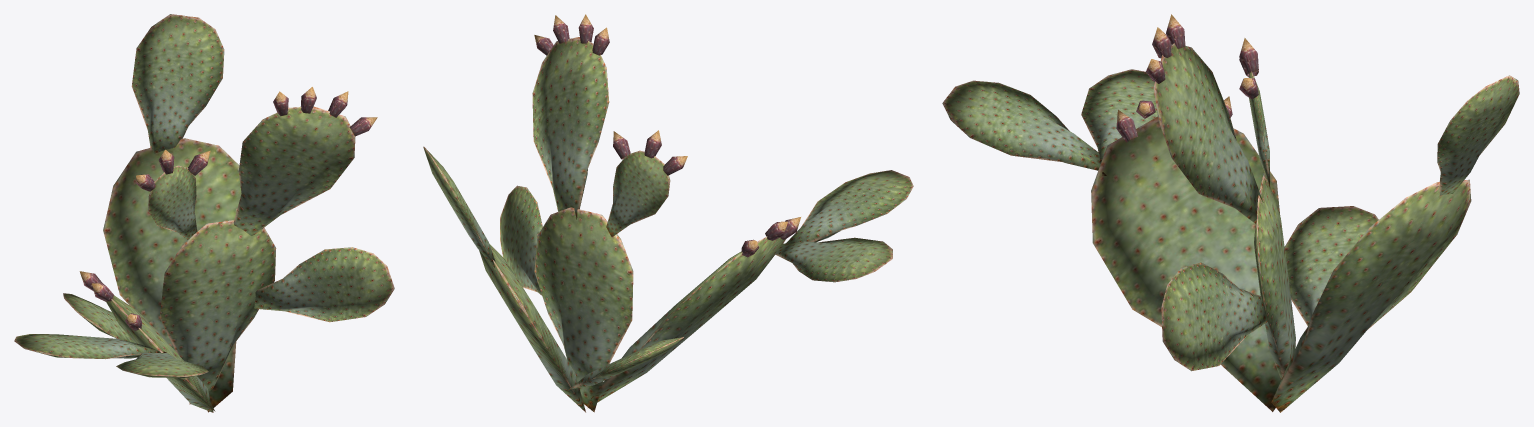
File: Nopal.obj
3 renders of one model, left to right at view 1: azimuth 30°, elevation 25°; view 2: azimuth 150°, elevation 25°; view 3: azimuth 270°, elevation 25°, orthographic. The views are drawn at different scales.
Parts seen in each view (by area): view 1: cactus_01; view 2: cactus_01; view 3: cactus_01.
Boxes of the visible parts, x1,y1,x2,y2 form: cactus_01: [14, 14, 394, 412]; cactus_01: [423, 14, 913, 412]; cactus_01: [942, 14, 1519, 412].
Size of the model in its own units: 9.07 by 7.95 by 9.99.
1 material, 1 textured.
